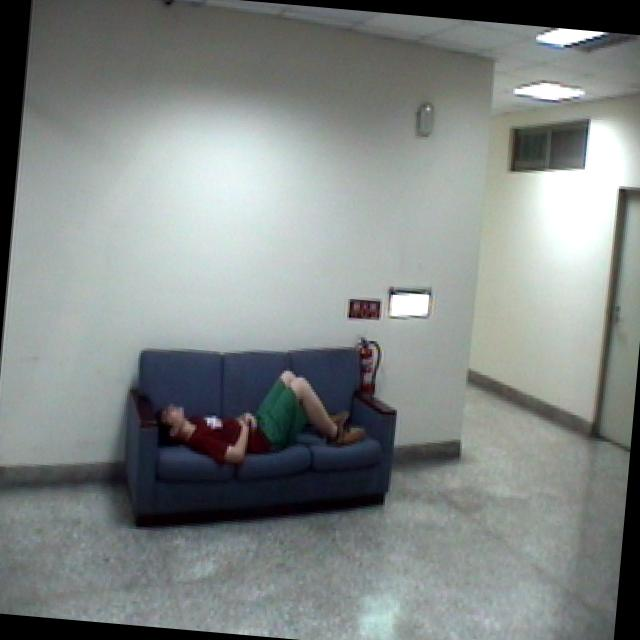lie: (146, 351, 384, 486)
